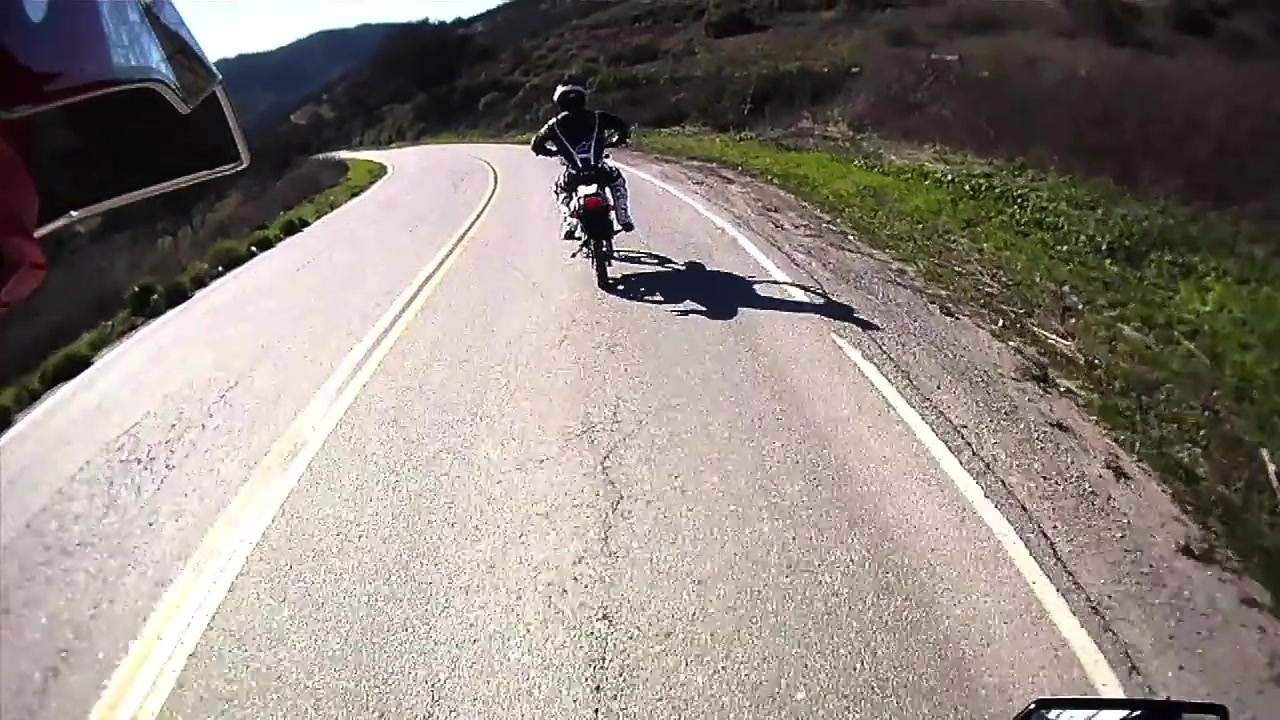motorbike: (547, 138, 628, 289)
